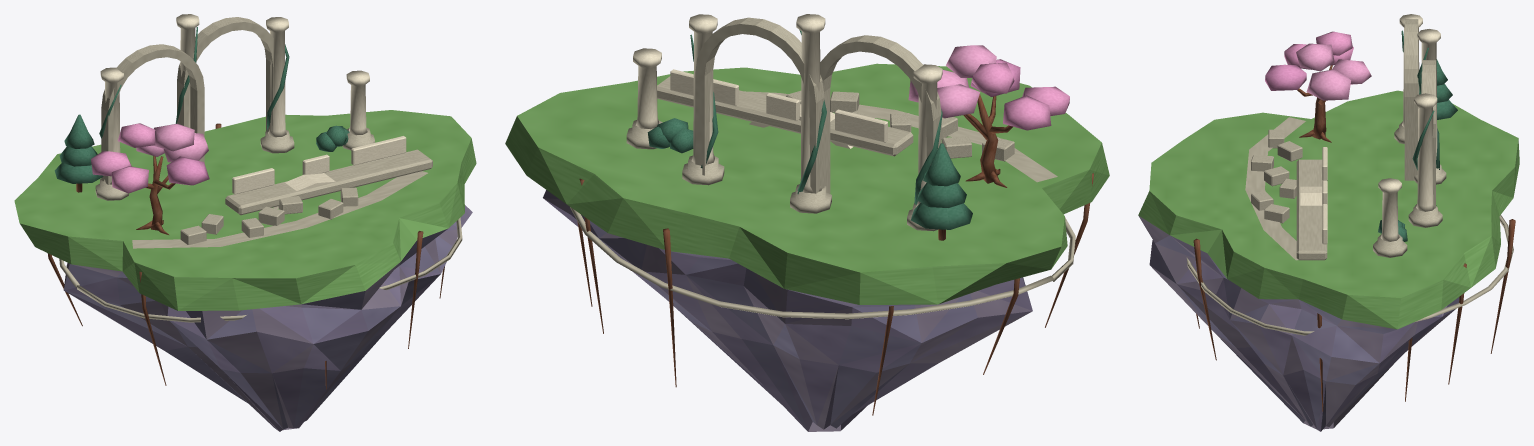
Rendered from sky-ruins.glb.
3 views of the same model, side by side, from view 1: azimuth 30°, elevation 25°; view 2: azimuth 150°, elevation 25°; view 3: azimuth 270°, elevation 25° (orthographic). The views are drawn at different scales.
Visible parts, largest first — view 1: sky-ruins; view 2: sky-ruins; view 3: sky-ruins.
Part boxes in pixels (<box>): sky-ruins: <box>14,14,476,431</box>; sky-ruins: <box>505,14,1109,431</box>; sky-ruins: <box>1138,14,1519,431</box>.
Bounding box in the file's own units: 14.19 × 11.54 × 10.74.
7 materials, 7 textured.
